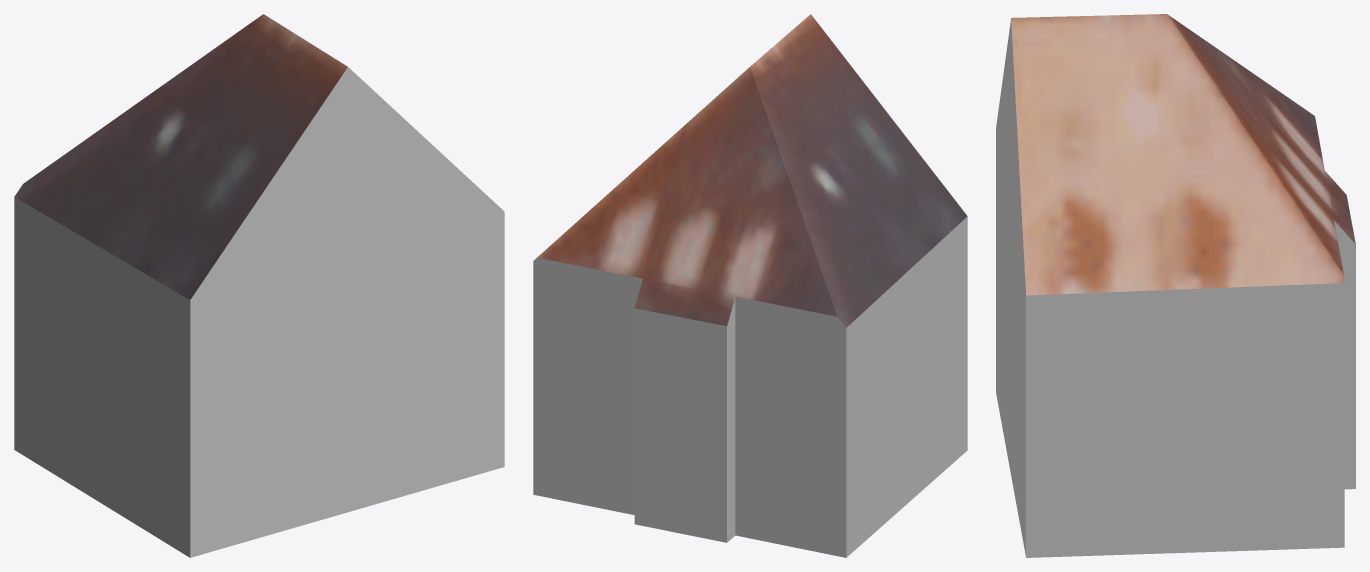
File: DEBW_0010007Txct.gltf
3 renders of one model, left to right at view 1: azimuth 30°, elevation 25°; view 2: azimuth 150°, elevation 25°; view 3: azimuth 270°, elevation 25°, orthographic. The views are drawn at different scales.
Visible parts, largest first — view 1: Z_UP; view 2: Z_UP; view 3: Z_UP.
Boxes of the visible parts, x1,y1,x2,y2 form: Z_UP: (14, 14, 504, 557); Z_UP: (533, 14, 967, 557); Z_UP: (996, 14, 1355, 557).
Bounding box in the file's own units: 11.75 × 14.28 × 10.17.
2 materials, 1 textured.
